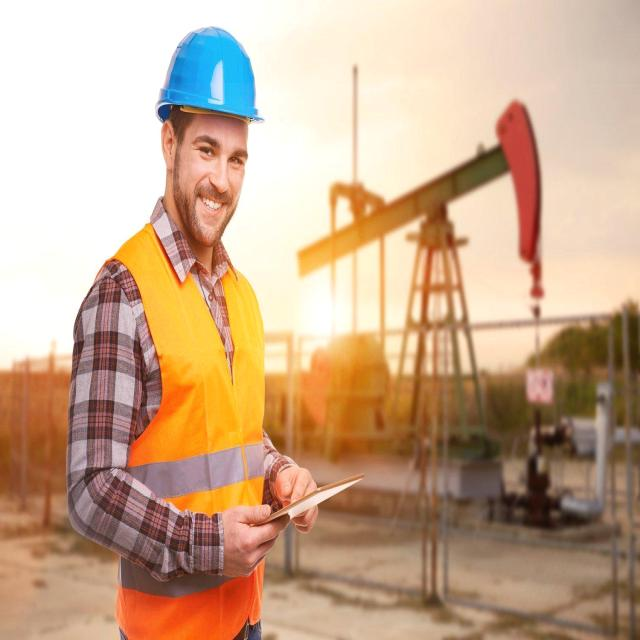face_nomask: (163, 120, 262, 252)
hand_noglove: (207, 497, 283, 592), (272, 452, 332, 530)
head_helmet: (159, 26, 268, 128)
person: (73, 10, 294, 630)
vest: (99, 235, 271, 619)
